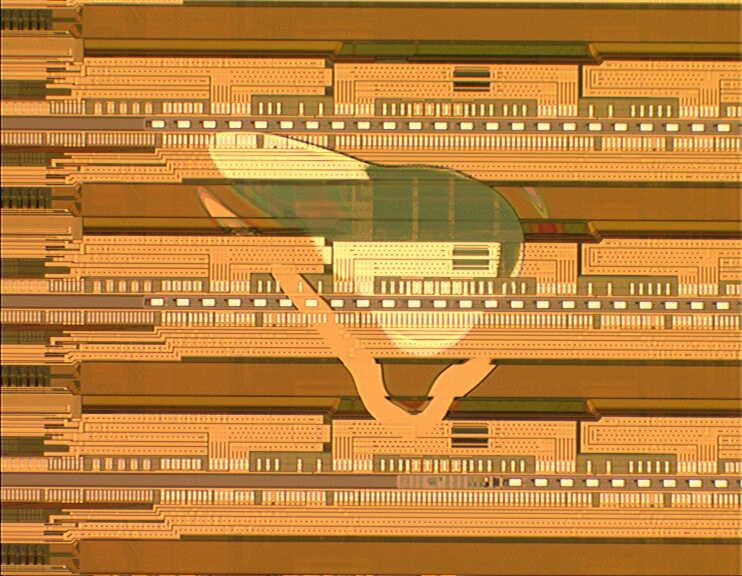BLOCK ETCH: (183, 124, 558, 446)
